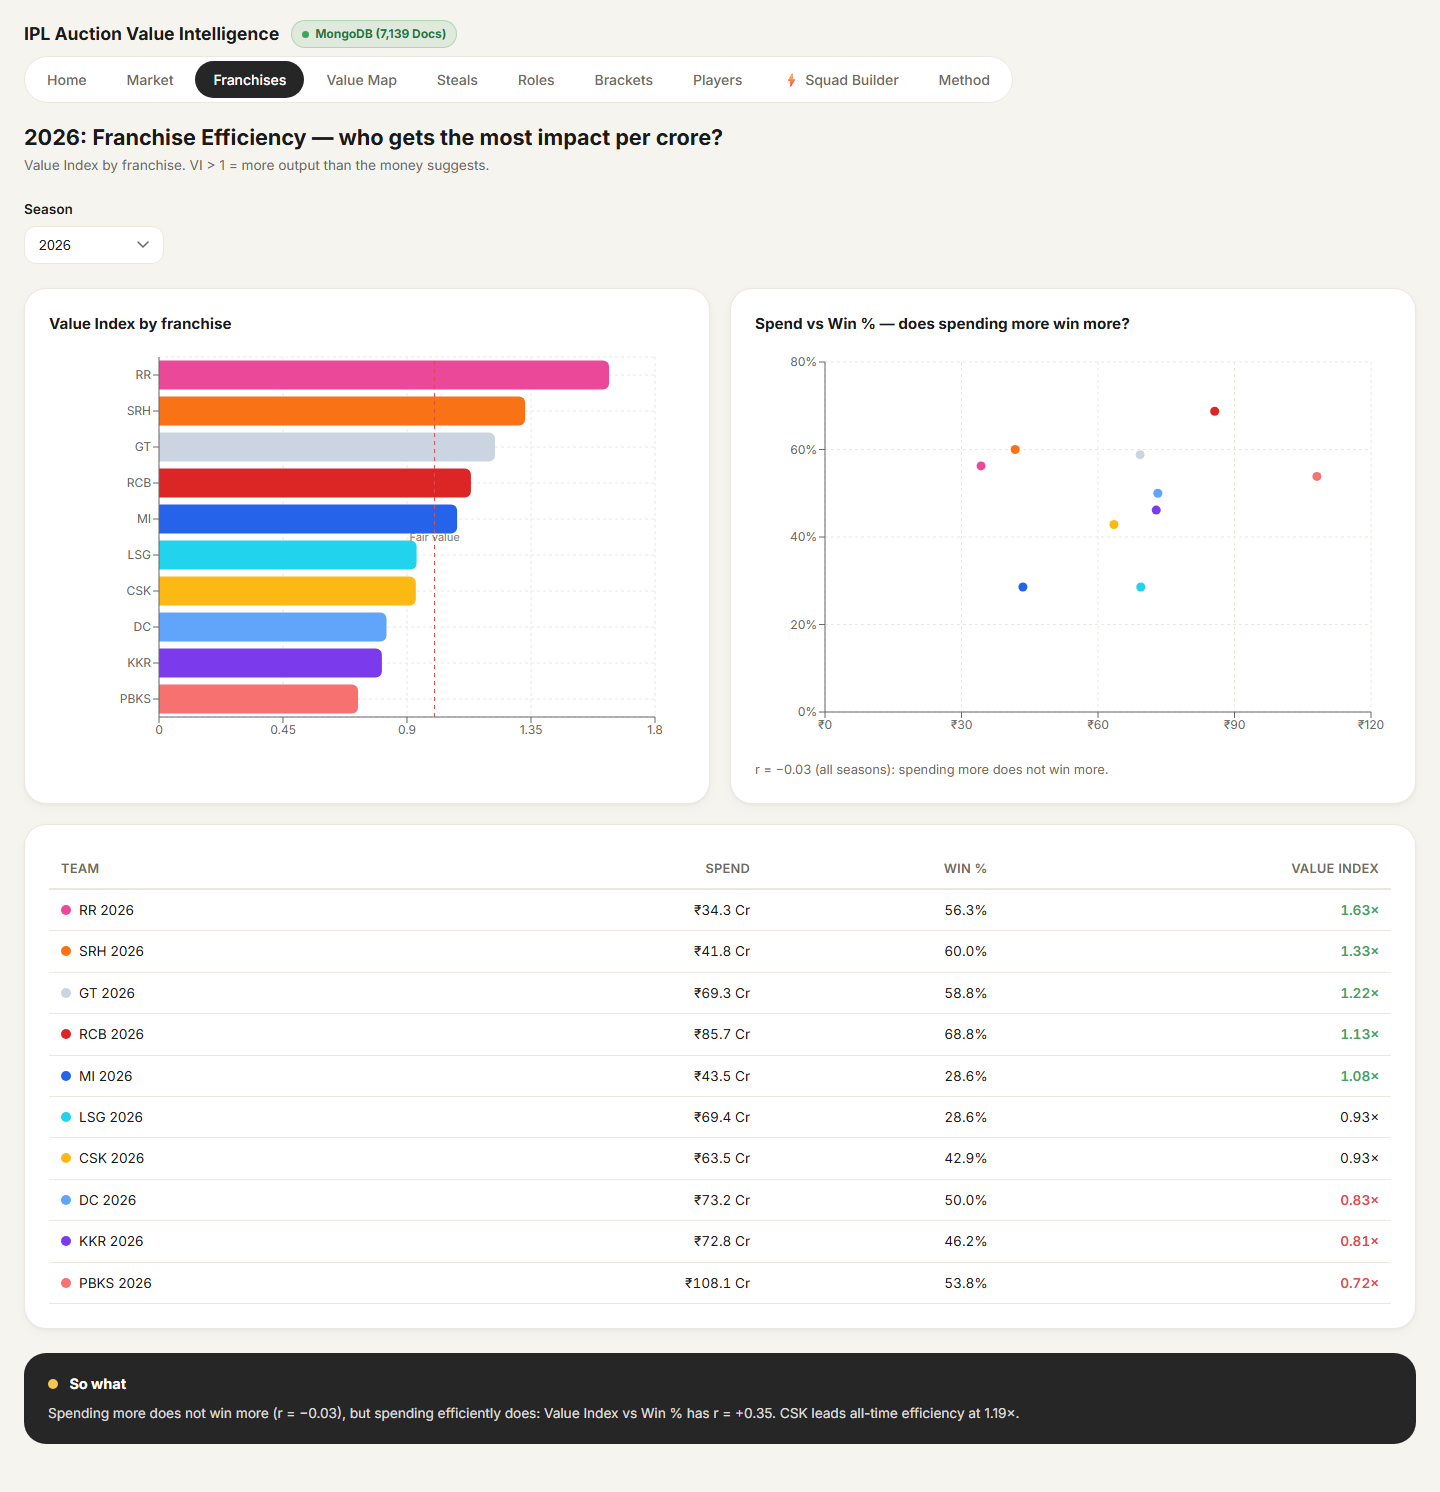

The dashboard page shown, as its layout file describes it:
{"tool":"powerbi","page":{"name":"2 Franchise Efficiency","canvas":[1280,720],"ordinal":2},"visuals":[{"type":"textbox","box":[16,8,270,66],"z":1000},{"type":"textbox","box":[300,14,748,44],"z":2000},{"type":"actionButton","title":"Home","box":[306,20,88,32],"z":3000},{"type":"actionButton","title":"Market","box":[398,20,88,32],"z":4000},{"type":"actionButton","title":"Franchises","box":[490,20,88,32],"z":5000},{"type":"actionButton","title":"Value Map","box":[582,20,88,32],"z":6000},{"type":"actionButton","title":"Steals","box":[674,20,88,32],"z":7000},{"type":"actionButton","title":"Roles","box":[766,20,88,32],"z":8000},{"type":"actionButton","title":"Brackets","box":[858,20,88,32],"z":9000},{"type":"actionButton","title":"Method","box":[950,20,88,32],"z":10000},{"type":"actionButton","title":"i","box":[1062,14,44,44],"z":11000},{"type":"textbox","box":[16,74,1248,50],"z":12000},{"type":"card","fields":{"Values":["_Measures.Spend Cr"]},"box":[16,126,241.6,62],"z":13000},{"type":"card","fields":{"Values":["_Measures.Priced Impact"]},"box":[265.6,126,241.6,62],"z":14000},{"type":"card","fields":{"Values":["_Measures.Lakh per Point"]},"box":[515.2,126,241.6,62],"z":15000},{"type":"card","fields":{"Values":["_Measures.Best Team Label"]},"box":[764.8,126,241.6,62],"z":16000},{"type":"card","fields":{"Values":["_Measures.Worst Team Label"]},"box":[1014.4,126,241.6,62],"z":17000},{"type":"textbox","box":[16,192,196,170],"z":18000},{"type":"slicer","fields":{"Values":["DimSeason.Season"]},"box":[24,202,180,64],"z":19000},{"type":"slicer","fields":{"Values":["DimTeam.TeamName"]},"box":[24,276,180,64],"z":20000},{"type":"textbox","box":[16,372,196,332],"z":21000},{"type":"clusteredColumnChart","title":"Value Index by franchise · 1.00 = fair value","fields":{"Category":["DimTeam.ShortCode"],"Y":["_Measures.Value Index"]},"box":[224,192,520,226],"z":22000},{"type":"scatterChart","title":"Does money buy wins? One dot per team-season, all seasons","fields":{"Category":["DimTeamSeason.TeamSeasonLabel"],"Size":["_Measures.Priced Impact"],"X":["_Measures.Spend Cr"],"Y":["_Measures.Win %"]},"box":[754,192,510,226],"z":23000},{"type":"pivotTable","title":"₹ lakh paid per Impact Point · green = cheaper than that season''s league rate, red = dearer","fields":{"Columns":["DimSeason.Season"],"Rows":["DimTeam.ShortCode"],"Values":["_Measures.Lakh per Point"]},"box":[224,428,1040,276],"z":24000}]}

Visuals, with their boxes on the page's 1280x720 design canvas (x1, y1, x2, y2). These are canvas units, not pixel positions in the 1440x1492 screenshot, which may show the page scaled, cropped or inside an application window:
textbox: <box>16,8,286,74</box>
textbox: <box>300,14,1048,58</box>
"Home" actionButton: <box>306,20,394,52</box>
"Market" actionButton: <box>398,20,486,52</box>
"Franchises" actionButton: <box>490,20,578,52</box>
"Value Map" actionButton: <box>582,20,670,52</box>
"Steals" actionButton: <box>674,20,762,52</box>
"Roles" actionButton: <box>766,20,854,52</box>
"Brackets" actionButton: <box>858,20,946,52</box>
"Method" actionButton: <box>950,20,1038,52</box>
"i" actionButton: <box>1062,14,1106,58</box>
textbox: <box>16,74,1264,124</box>
card - _Measures.Spend Cr: <box>16,126,258,188</box>
card - _Measures.Priced Impact: <box>266,126,507,188</box>
card - _Measures.Lakh per Point: <box>515,126,757,188</box>
card - _Measures.Best Team Label: <box>765,126,1006,188</box>
card - _Measures.Worst Team Label: <box>1014,126,1256,188</box>
textbox: <box>16,192,212,362</box>
slicer - DimSeason.Season: <box>24,202,204,266</box>
slicer - DimTeam.TeamName: <box>24,276,204,340</box>
textbox: <box>16,372,212,704</box>
"Value Index by franchise · 1.00 = fair value" clusteredColumnChart: <box>224,192,744,418</box>
"Does money buy wins? One dot per team-season, all seasons" scatterChart: <box>754,192,1264,418</box>
"₹ lakh paid per Impact Point · green = cheaper than that season''s league rate, red = dearer" pivotTable: <box>224,428,1264,704</box>
